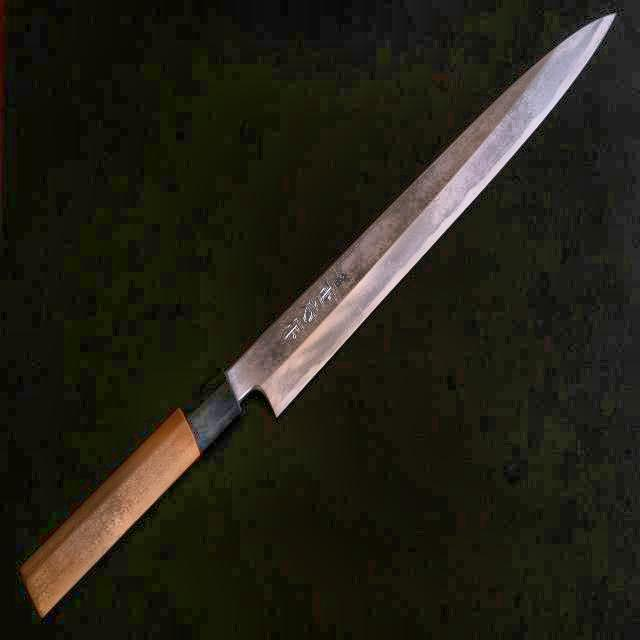knife: (18, 6, 623, 628)
